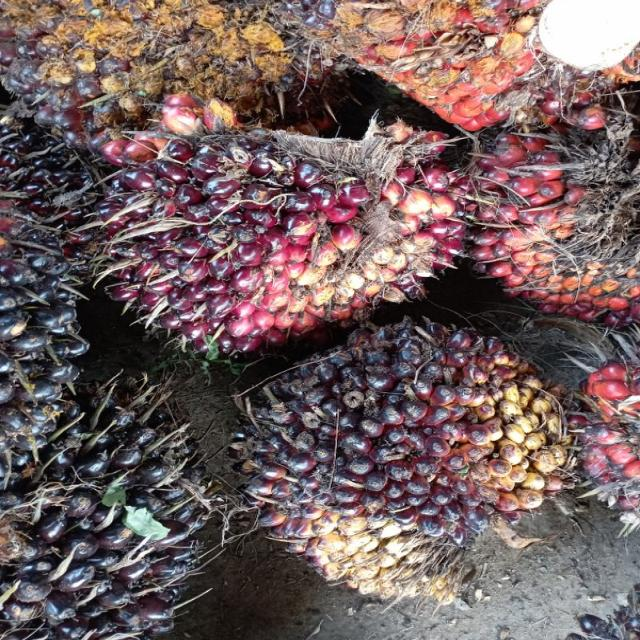fraksi 00: (250, 327, 570, 592), (1, 389, 228, 640)
fraksi 3: (78, 124, 466, 352), (470, 107, 636, 330)
fraksi 4: (317, 0, 631, 120)
